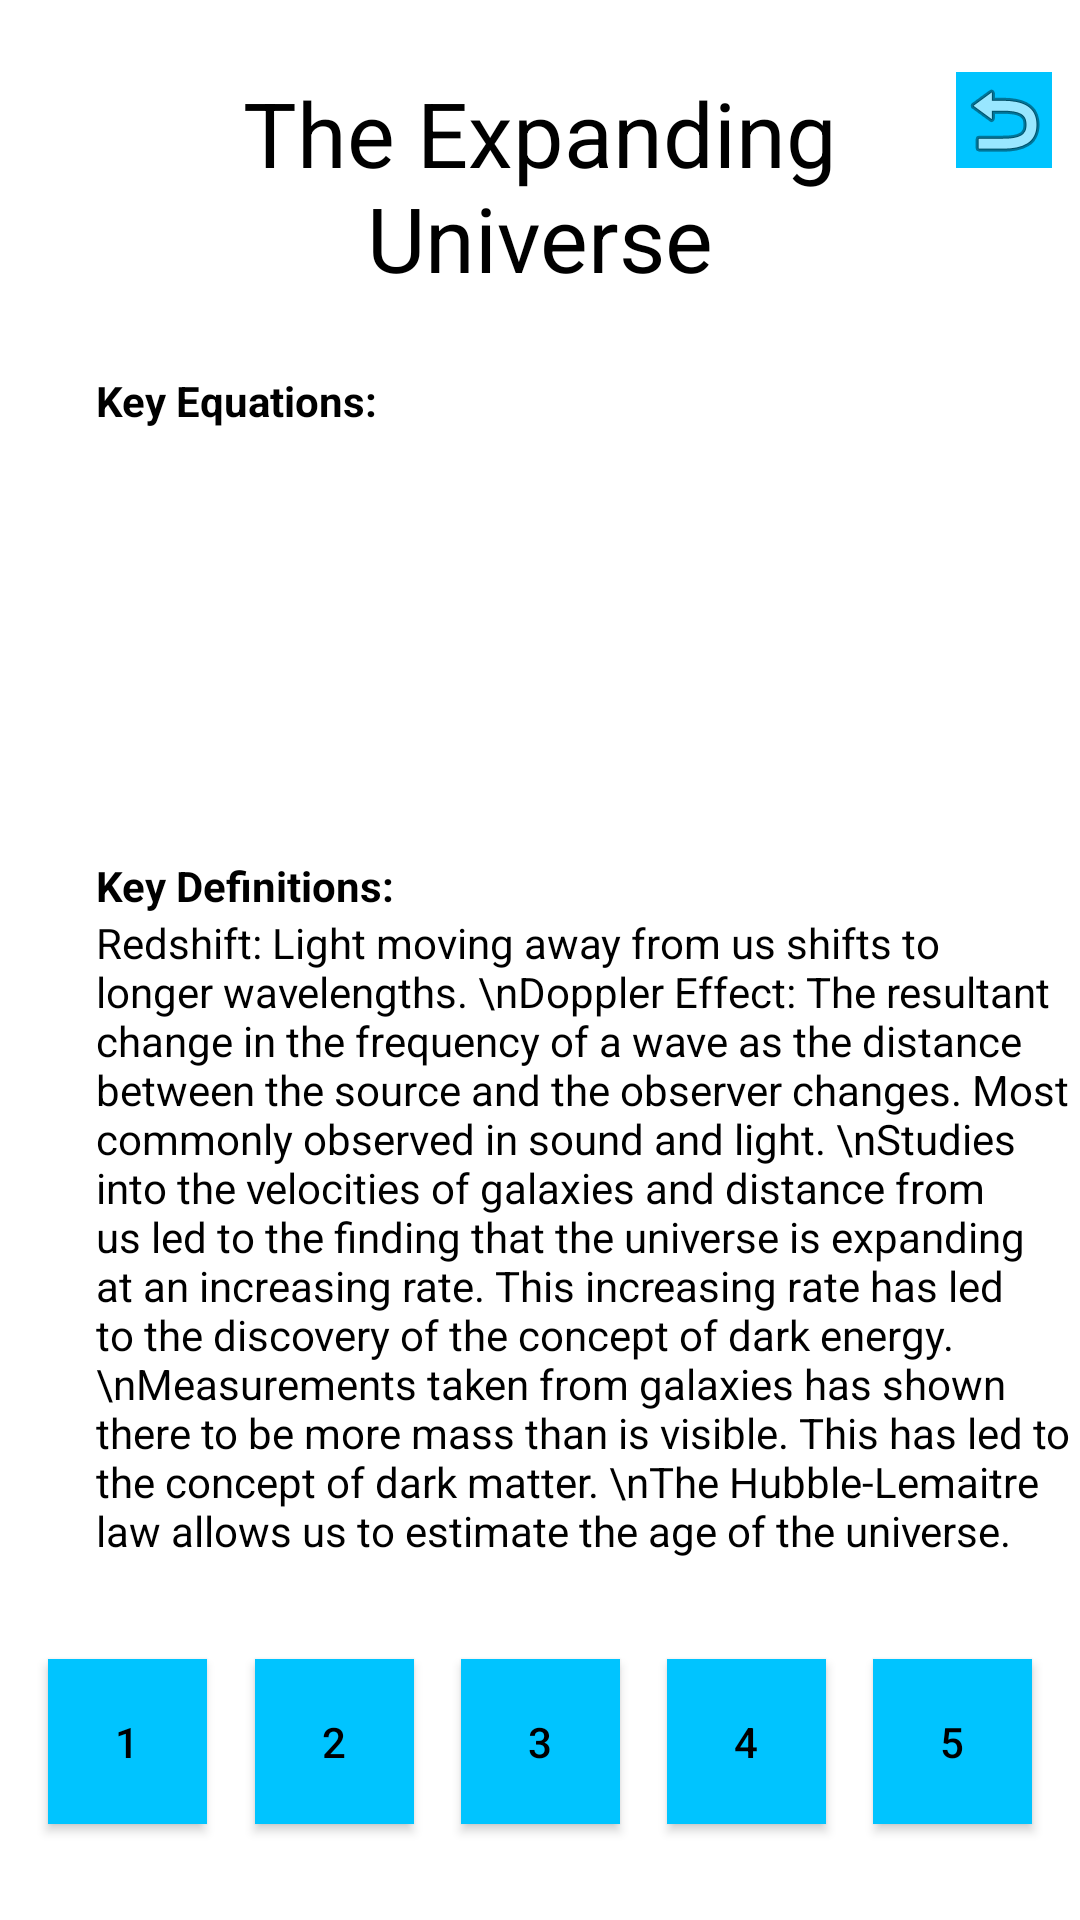

Icons on this 1080px x 1920px Android screen, each with its box as (x1, y1, x2, y2):
revert: (956, 72, 1052, 168)
